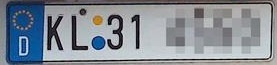character: (70, 14, 89, 51), (46, 14, 63, 51), (106, 14, 123, 50), (130, 14, 141, 50), (17, 34, 29, 56)
